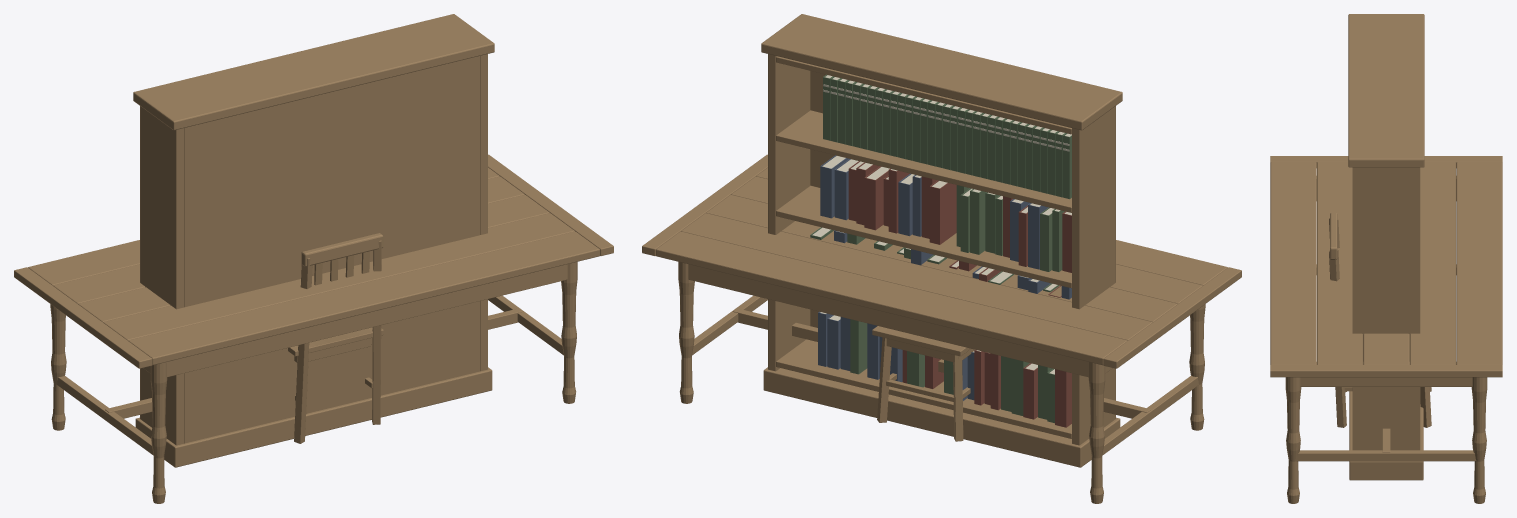
The model's file is reading_furniture.glb.
3 renders of one model, left to right at view 1: azimuth 30°, elevation 25°; view 2: azimuth 150°, elevation 25°; view 3: azimuth 270°, elevation 25°, orthographic. The views are drawn at different scales.
Visible parts, largest first — view 1: Bookcase_Oak, ReadingTable_Oak, ReadingChair_Oak; view 2: Bookcase_Oak, ReadingTable_Oak, Bookcase_GreenCloth, Bookcase_RedCloth, Bookcase_BlueCloth, ReadingChair_Oak, Bookcase_Paper; view 3: ReadingTable_Oak, Bookcase_Oak, ReadingChair_Oak.
Boxes of the visible parts, x1=… form: Bookcase_Oak: x1=133, y1=14, x2=494, y2=467; ReadingTable_Oak: x1=14, y1=154, x2=613, y2=503; ReadingChair_Oak: x1=288, y1=233, x2=383, y2=443; Bookcase_Oak: x1=761, y1=14, x2=1122, y2=467; ReadingTable_Oak: x1=642, y1=154, x2=1241, y2=503; Bookcase_GreenCloth: x1=810, y1=74, x2=1071, y2=423; Bookcase_RedCloth: x1=848, y1=161, x2=1071, y2=427; Bookcase_BlueCloth: x1=818, y1=155, x2=1071, y2=400; ReadingChair_Oak: x1=872, y1=326, x2=974, y2=441; Bookcase_Paper: x1=812, y1=75, x2=1071, y2=374; ReadingTable_Oak: x1=1270, y1=156, x2=1502, y2=503; Bookcase_Oak: x1=1348, y1=14, x2=1424, y2=480; ReadingChair_Oak: x1=1329, y1=213, x2=1431, y2=427.
Size of the model in its own units: 2.41 by 1.68 by 1.1.
